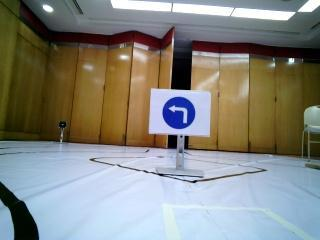left: (155, 90, 208, 135)
